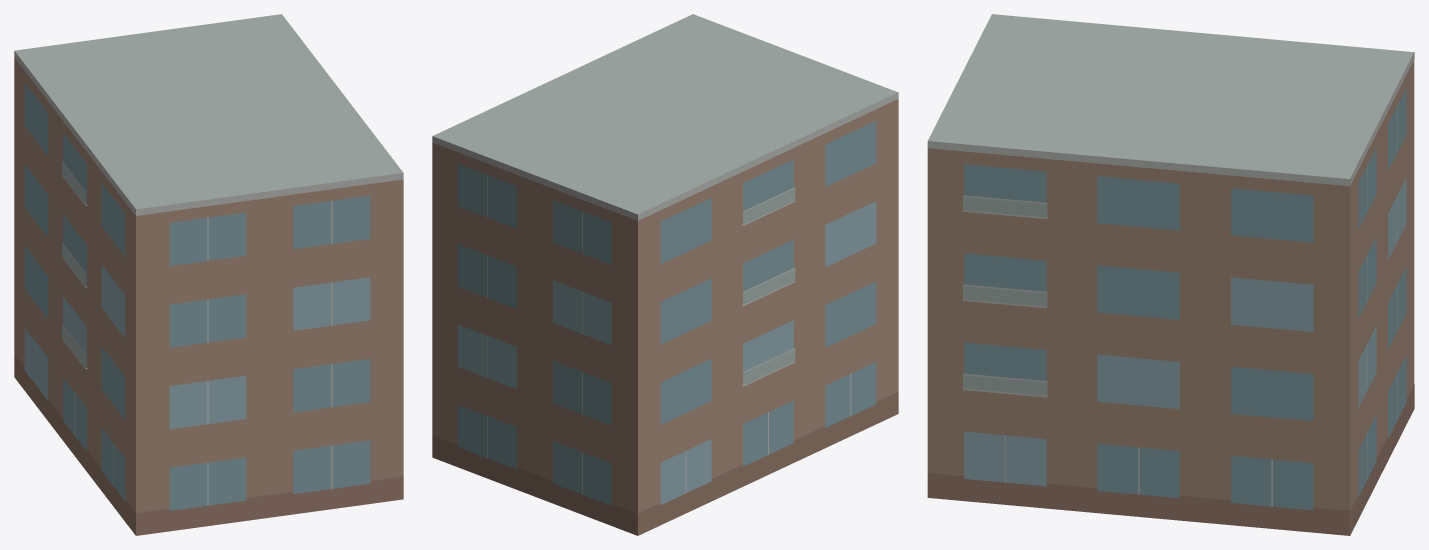
The model's file is residential-02138126-92dc-4759-adc6-f2f70c94a6d1.glb.
3 views of the same model, side by side, from view 1: azimuth 30°, elevation 25°; view 2: azimuth 150°, elevation 25°; view 3: azimuth 270°, elevation 25° (orthographic). The views are drawn at different scales.
Visible parts, largest first — view 1: residential-02138126-92dc-4759-adc6-f2f70c94a6d1.tmp; view 2: residential-02138126-92dc-4759-adc6-f2f70c94a6d1.tmp; view 3: residential-02138126-92dc-4759-adc6-f2f70c94a6d1.tmp.
Boxes of the visible parts, box(x1,y1,x2,y2) form: residential-02138126-92dc-4759-adc6-f2f70c94a6d1.tmp: box(14, 14, 403, 535); residential-02138126-92dc-4759-adc6-f2f70c94a6d1.tmp: box(432, 14, 898, 535); residential-02138126-92dc-4759-adc6-f2f70c94a6d1.tmp: box(927, 14, 1414, 535).
Size of the model in its own units: 12.12 by 12.2 by 15.1.
